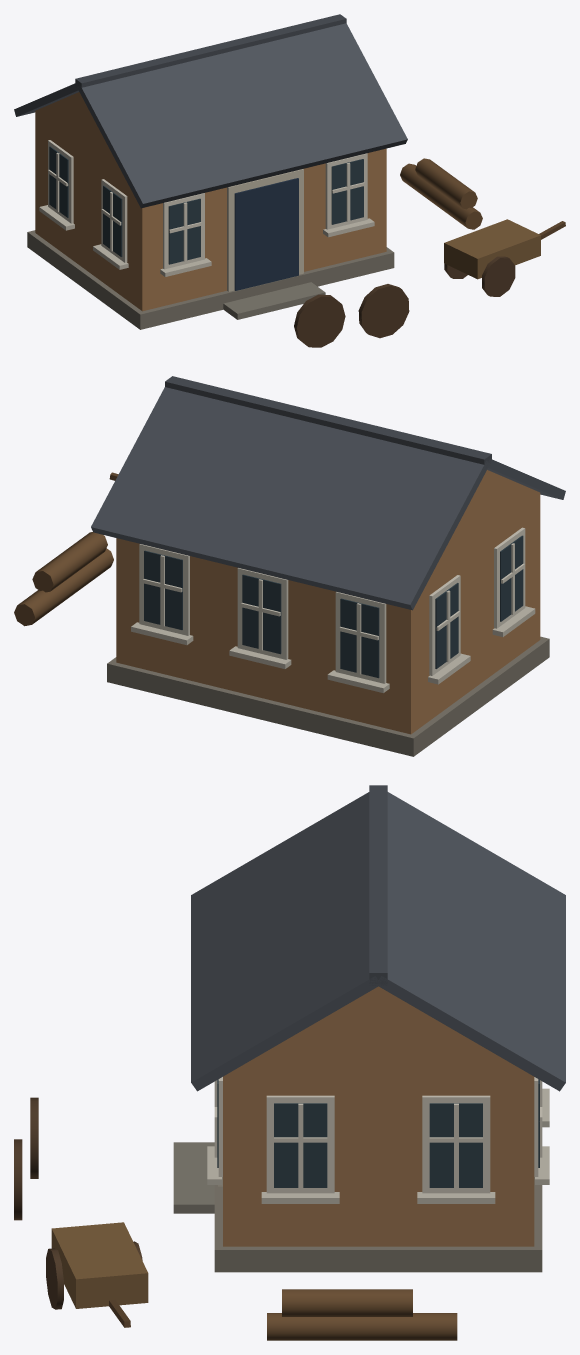
Rendered from procedural_cartwright@5.glb.
3 renders of one model, top to bottom at view 1: azimuth 30°, elevation 25°; view 2: azimuth 150°, elevation 25°; view 3: azimuth 270°, elevation 25°, orthographic. The views are drawn at different scales.
Parts seen in each view (by area): view 1: part_0; view 2: part_0; view 3: part_0.
Part boxes in pixels (left/top/right/bottom): part_0: left=14, top=14, right=565, bottom=347; part_0: left=14, top=376, right=565, bottom=756; part_0: left=14, top=785, right=565, bottom=1340.
Size of the model in its own units: 8.18 by 4.08 by 6.74.
